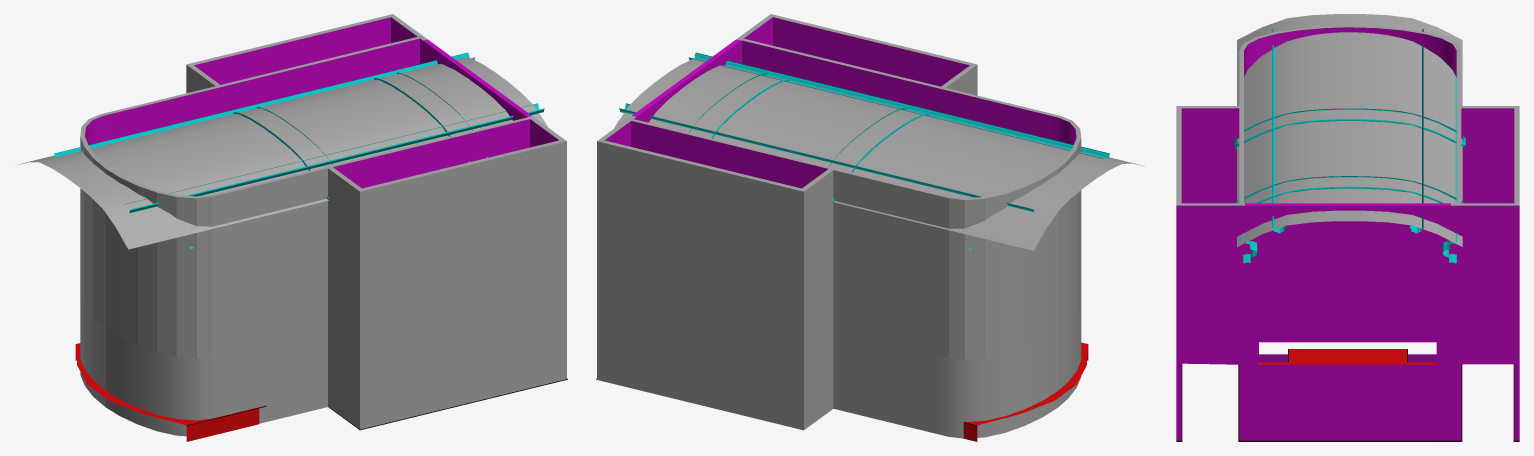
Rendered from WW_StageSeatingArea_Env_06.fbx.
The picture shows the model from 3 angles, left to right: view 1: azimuth 30°, elevation 25°; view 2: azimuth 150°, elevation 25°; view 3: azimuth 270°, elevation 25°; orthographic projection.
Parts seen in each view (by area): view 1: StageCurve1, Roof2Geo, StageWalls16 (×2), StageWalls17, Stage, RoofStrut5, RoofStrut6; view 2: StageCurve1, StageWalls17, Roof2Geo, StageWalls16 (×2), RoofStrut5, RoofStrut6, Stage; view 3: StageWalls16 (×2), Roof2Geo, StageCurve1, StageWalls17, Stage_geo1, RoofStrut2, RoofStrut1, RoofStrut5, RoofStrut4, RoofStrut6.
Part boxes in pixels (<box>): StageCurve1: <box>80,86,567,436</box>; Roof2Geo: <box>18,57,547,249</box>; StageWalls16 (×2): <box>221,33,532,120</box>; StageWalls17: <box>186,14,418,113</box>; Stage: <box>75,343,266,441</box>; RoofStrut5: <box>124,103,544,212</box>; RoofStrut6: <box>54,52,475,157</box>; StageCurve1: <box>737,14,1081,438</box>; StageWalls17: <box>596,122,835,430</box>; Roof2Geo: <box>614,59,1144,250</box>; StageWalls16 (×2): <box>623,39,830,188</box>; RoofStrut5: <box>688,52,1109,158</box>; RoofStrut6: <box>619,103,1034,211</box>; Stage: <box>963,342,1088,441</box>; StageWalls16 (×2): <box>1244,108,1472,441</box>; Roof2Geo: <box>1237,14,1462,246</box>; StageCurve1: <box>1176,25,1461,441</box>; StageWalls17: <box>1456,106,1519,441</box>; Stage_geo1: <box>1259,349,1436,362</box>; RoofStrut2: <box>1233,108,1465,149</box>; RoofStrut1: <box>1235,176,1463,203</box>; RoofStrut5: <box>1272,28,1286,233</box>; RoofStrut4: <box>1442,76,1457,263</box>; RoofStrut6: <box>1409,28,1423,233</box>.
Bounding box in the file's own units: 2886 × 1520 × 2000.
